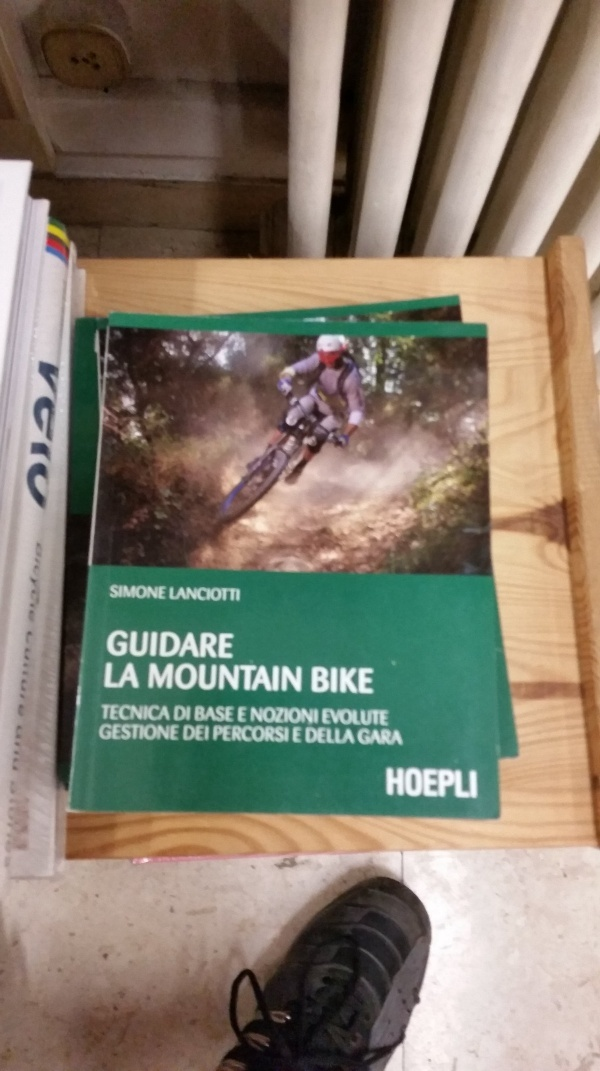text: (17, 542, 32, 875), (3, 542, 16, 875), (33, 542, 43, 875), (49, 359, 61, 516), (38, 359, 48, 516), (401, 766, 416, 802), (417, 766, 432, 802), (433, 766, 448, 802), (449, 766, 464, 802), (386, 766, 400, 802), (321, 665, 336, 696), (337, 665, 352, 696), (353, 665, 368, 696), (113, 629, 128, 659), (129, 629, 144, 659), (145, 629, 160, 659), (161, 629, 176, 659), (177, 629, 192, 659), (193, 629, 208, 659), (209, 629, 224, 659), (465, 766, 477, 802), (161, 664, 176, 692), (177, 664, 192, 692), (193, 664, 208, 692), (209, 664, 224, 692), (225, 664, 240, 692), (241, 664, 256, 692), (257, 664, 272, 692), (273, 664, 288, 692), (289, 664, 303, 692), (113, 662, 128, 688), (113, 720, 128, 744), (129, 720, 144, 744), (145, 720, 160, 744), (161, 720, 176, 744), (193, 724, 209, 745), (273, 724, 289, 745), (209, 704, 224, 726), (257, 705, 272, 726), (273, 705, 288, 726), (289, 705, 304, 726), (113, 702, 128, 723), (129, 702, 144, 723), (145, 702, 160, 723), (225, 724, 240, 745), (241, 724, 256, 745), (257, 724, 272, 745), (194, 704, 208, 726), (225, 629, 235, 659), (337, 707, 352, 727), (353, 707, 368, 727), (369, 707, 384, 727), (369, 727, 384, 747), (385, 727, 400, 747), (177, 704, 192, 724), (305, 705, 319, 726), (100, 720, 112, 744), (129, 662, 140, 688), (321, 727, 336, 746), (337, 727, 352, 746), (150, 664, 160, 692), (291, 727, 304, 748), (306, 727, 320, 746), (323, 707, 336, 727), (225, 586, 241, 602), (100, 702, 112, 723), (212, 724, 224, 745), (312, 665, 320, 696), (177, 586, 192, 602), (193, 586, 208, 602), (209, 586, 224, 602), (113, 585, 128, 600), (129, 585, 144, 600), (145, 585, 160, 600), (357, 727, 368, 747), (225, 704, 234, 726), (161, 702, 170, 723), (183, 724, 192, 745), (369, 665, 375, 696), (106, 662, 112, 688), (107, 629, 112, 659), (241, 706, 248, 724), (251, 705, 256, 726), (170, 586, 176, 602), (161, 585, 167, 600), (385, 707, 389, 727), (177, 720, 180, 744), (401, 727, 404, 747), (173, 704, 176, 724), (237, 706, 240, 724), (353, 727, 355, 746), (110, 585, 112, 600)
